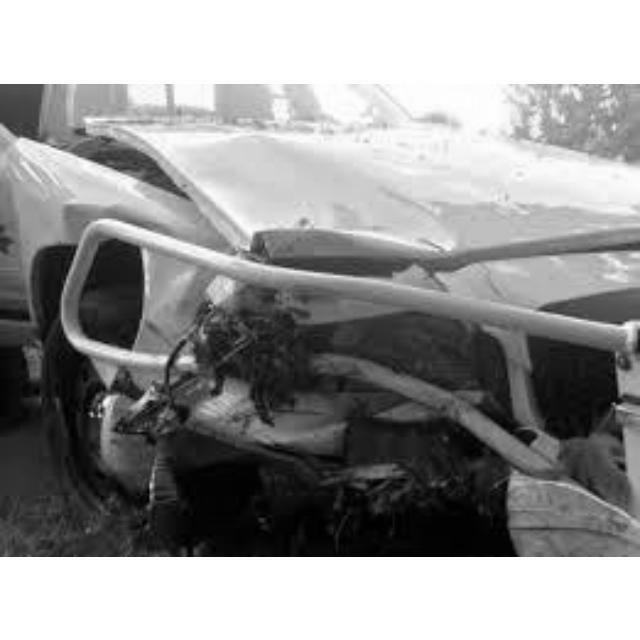Headlight-damage: (185, 285, 430, 424)
bonnet-dent: (126, 115, 547, 259)
